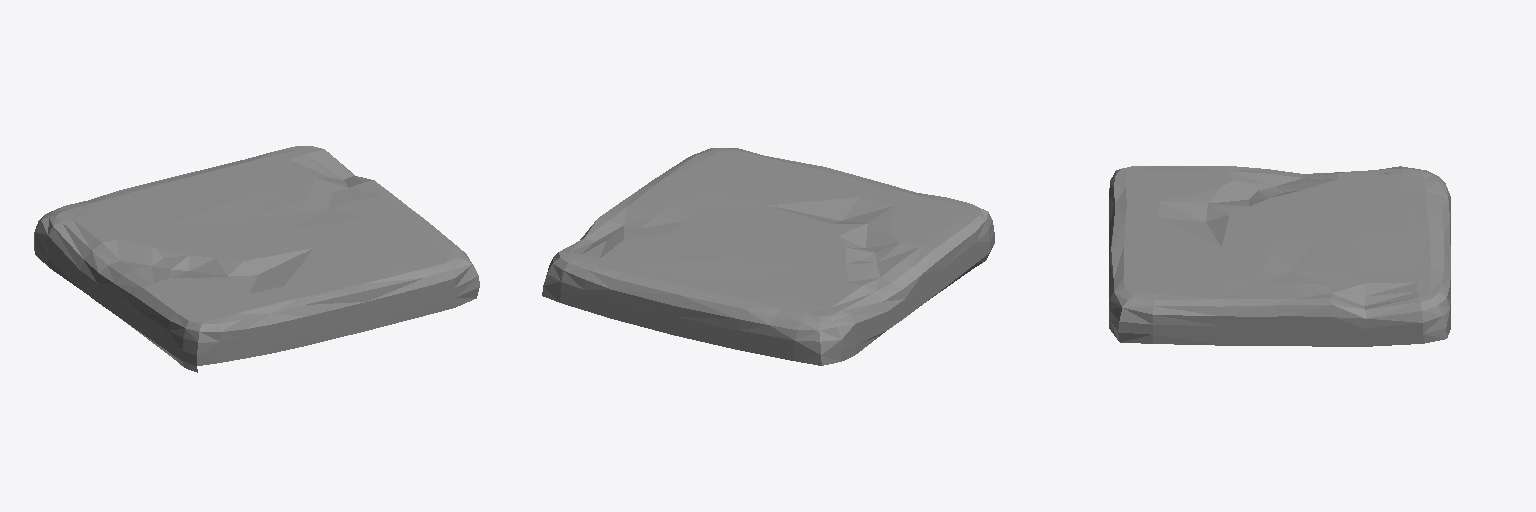
File: Tile1.obj
3 views of the same model, side by side, from view 1: azimuth 30°, elevation 25°; view 2: azimuth 150°, elevation 25°; view 3: azimuth 270°, elevation 25° (orthographic).
Visible parts, largest first — view 1: SM_Tile1_LP; view 2: SM_Tile1_LP; view 3: SM_Tile1_LP.
Boxes of the visible parts, x1=… form: SM_Tile1_LP: x1=34, y1=146, x2=479, y2=372; SM_Tile1_LP: x1=542, y1=148, x2=994, y2=365; SM_Tile1_LP: x1=1109, y1=166, x2=1450, y2=346.
Bounding box in the file's own units: 156 × 23.35 × 156.